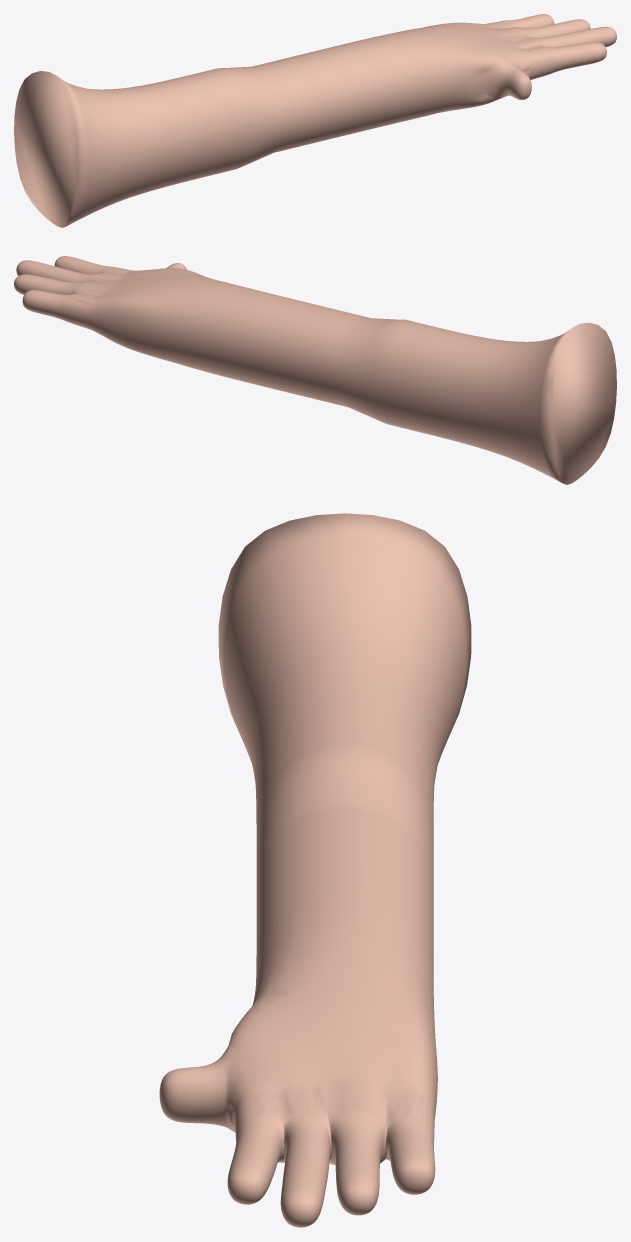
Rendered from canhtayleft.glb.
3 renders of one model, top to bottom at view 1: azimuth 30°, elevation 25°; view 2: azimuth 150°, elevation 25°; view 3: azimuth 270°, elevation 25°, orthographic. The views are drawn at different scales.
Visible parts, largest first — view 1: Body; view 2: Body; view 3: Body.
Part boxes in pixels (x1,y1,x2,y2): Body: (14, 14, 616, 227); Body: (14, 256, 616, 484); Body: (159, 513, 471, 1227).
Bounding box in the file's own units: 1.03 × 0.2566 × 0.2481.
